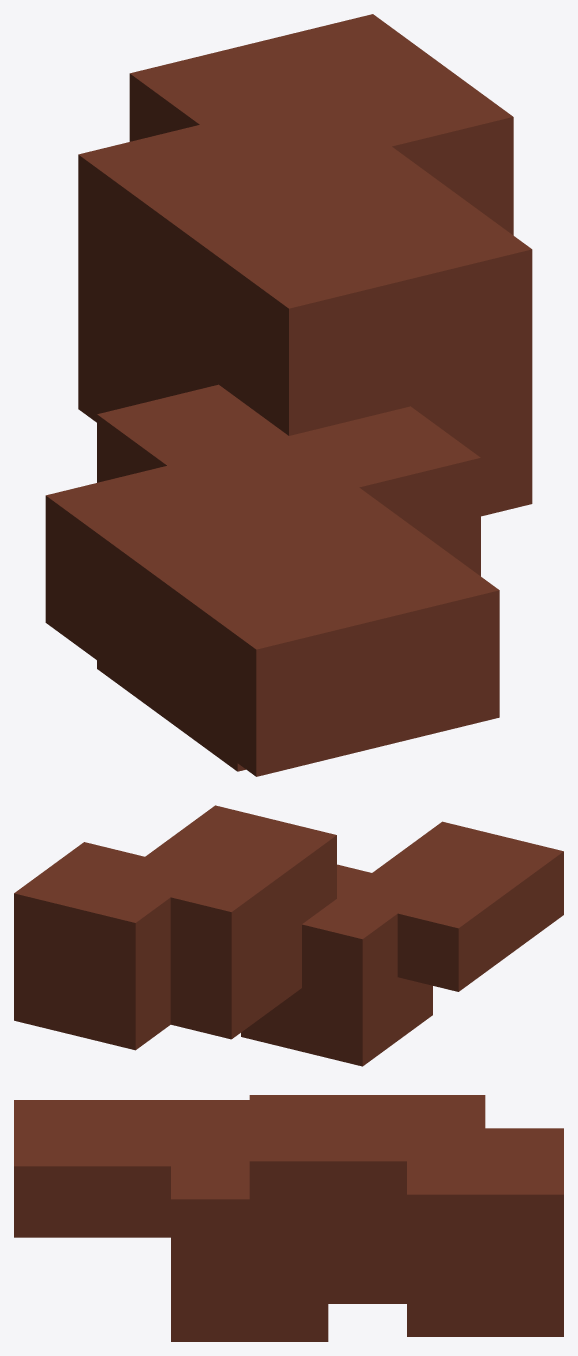
The model's file is Enemy1-9.obj.
3 renders of one model, top to bottom at view 1: azimuth 30°, elevation 25°; view 2: azimuth 150°, elevation 25°; view 3: azimuth 270°, elevation 25°, orthographic. The views are drawn at different scales.
Bounding box in the file's own units: 0.5 × 0.3 × 0.7.
Materials: 1 (1 with a texture image).
